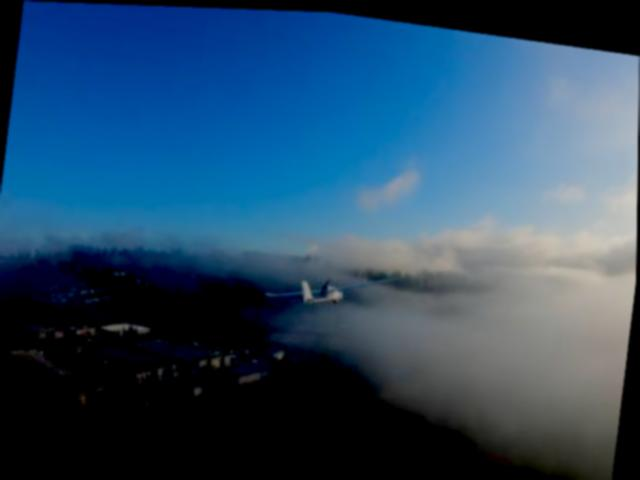uav: (253, 240, 414, 334)
